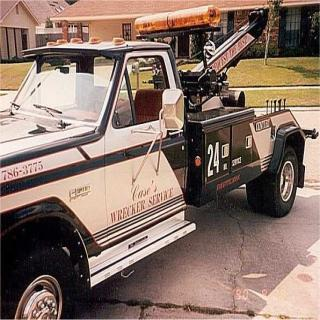Towing_truck: (1, 4, 318, 318)
